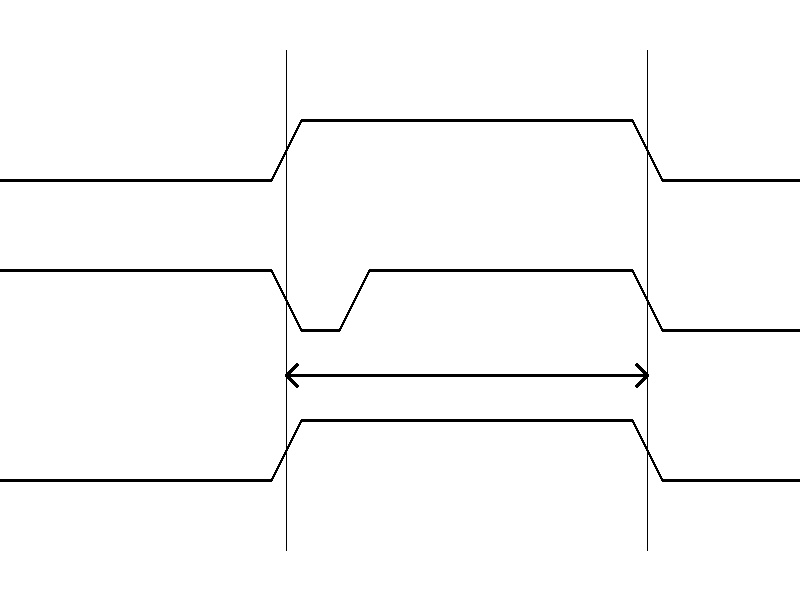double_arrow: (286, 360, 647, 390)
